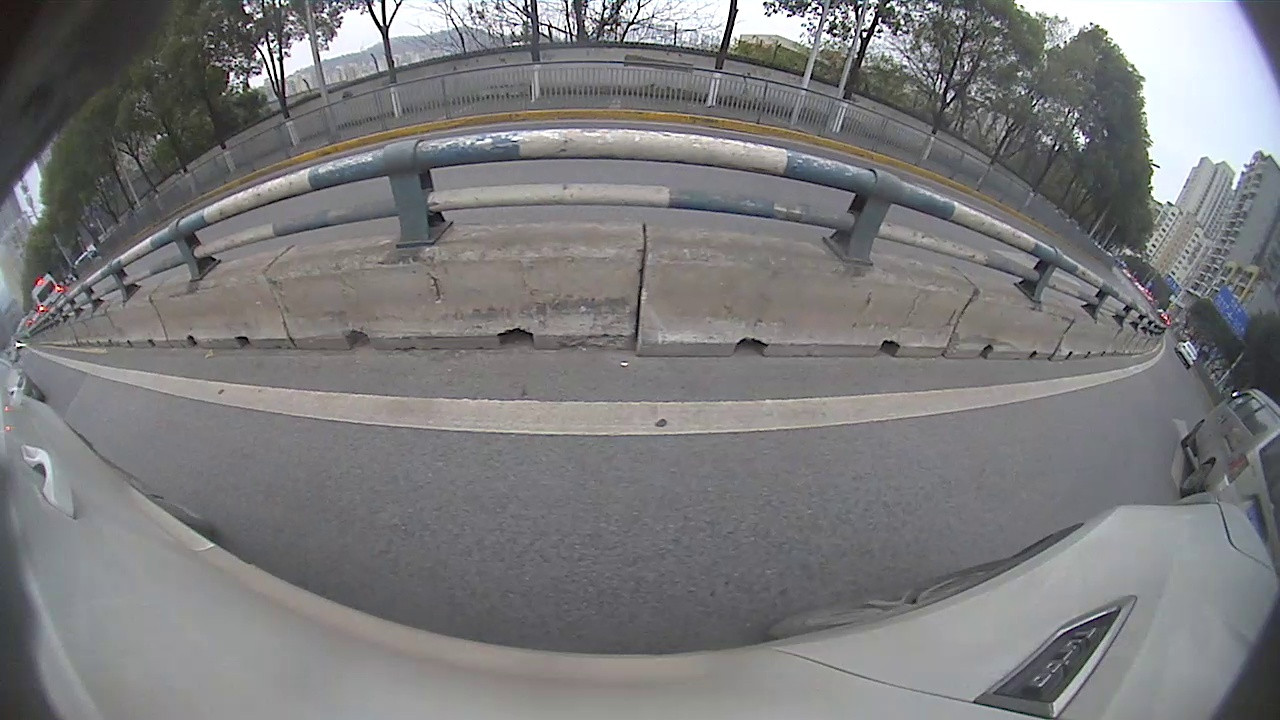car: (1178, 386, 1279, 554)
rear: (1177, 461, 1212, 494)
